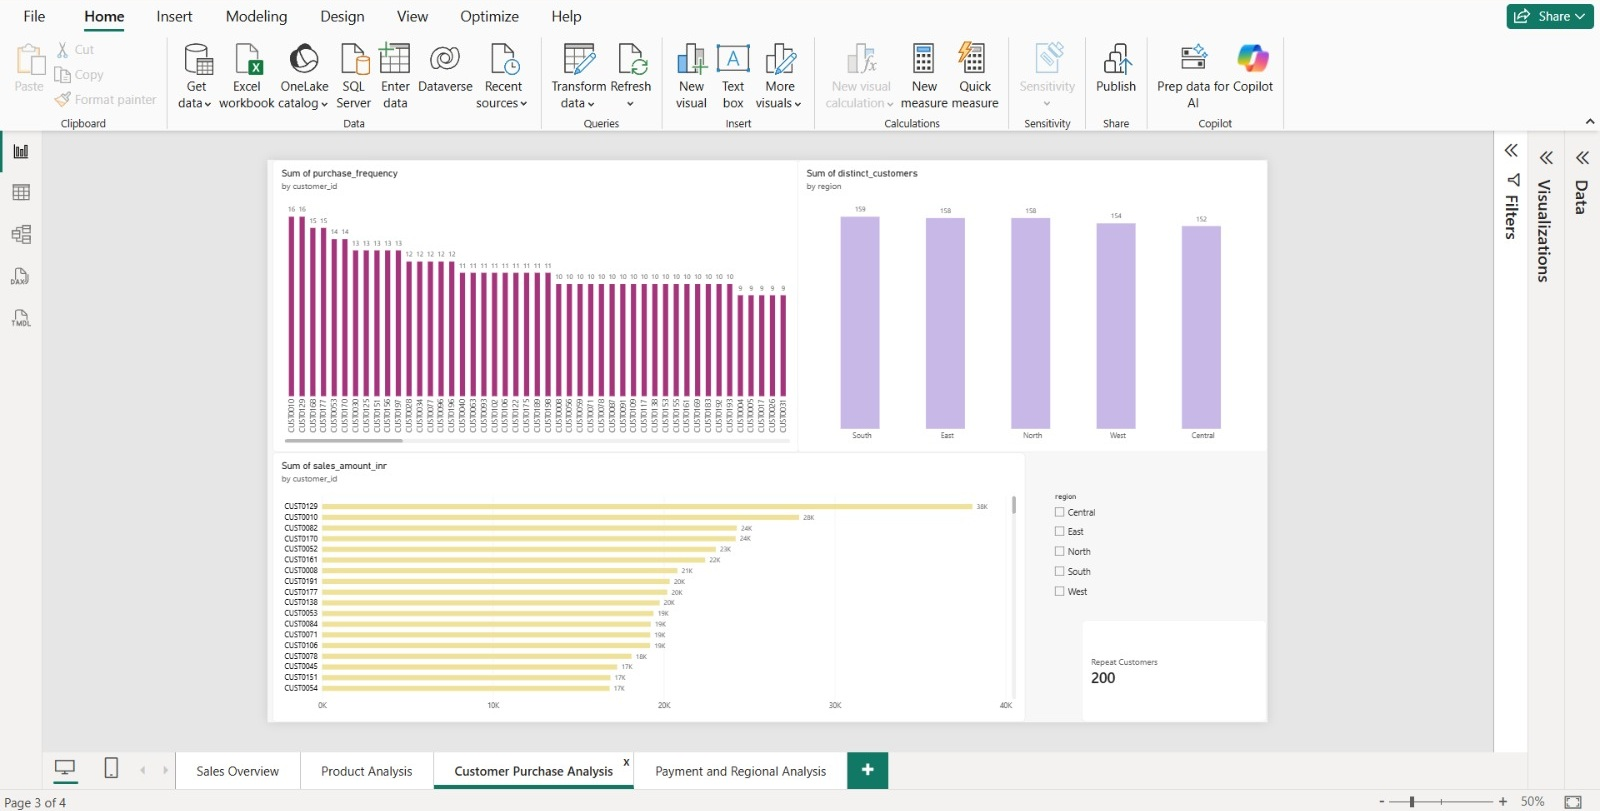

Layout of this report page (visuals, bound fields, positions):
{"tool":"powerbi","page":{"name":"Customer Purchase Analysis","canvas":[1920,1080],"ordinal":2},"visuals":[{"type":"columnChart","fields":{"Category":["repeat_customers.customer_id"],"Y":["Sum(repeat_customers.purchase_frequency)"]},"box":[9.1,0,1010.7,561],"z":0},{"type":"clusteredBarChart","fields":{"Category":["retail_transactions.customer_id"],"Y":["Sum(retail_transactions.sales_amount_inr)"]},"box":[9.1,561,1444.6,517.9],"z":1000},{"type":"slicer","fields":{"Values":["retail_transactions.region"]},"box":[1503.6,638.2,415.6,279.4],"z":2000},{"type":"columnChart","fields":{"Category":["regional_distribution.region"],"Y":["Sum(regional_distribution.distinct_customers)"]},"box":[1017.8,0,902.3,561.6],"z":3000},{"type":"cardVisual","fields":{"Data":["CountNonNull(repeat_customers.customer_id)"]},"box":[1564.9,883.5,354.3,195.3],"z":4000}]}

Visuals, with their boxes on the page's 1920x1080 design canvas (x1, y1, x2, y2). These are canvas units, not pixel positions in the 1600x811 screenshot, which may show the page scaled, cropped or inside an application window:
columnChart - repeat_customers.customer_id x Sum(repeat_customers.purchase_frequency): 9,0,1020,561
clusteredBarChart - retail_transactions.customer_id x Sum(retail_transactions.sales_amount_inr): 9,561,1454,1079
slicer - retail_transactions.region: 1504,638,1919,918
columnChart - regional_distribution.region x Sum(regional_distribution.distinct_customers): 1018,0,1920,562
cardVisual - CountNonNull(repeat_customers.customer_id): 1565,884,1919,1079
